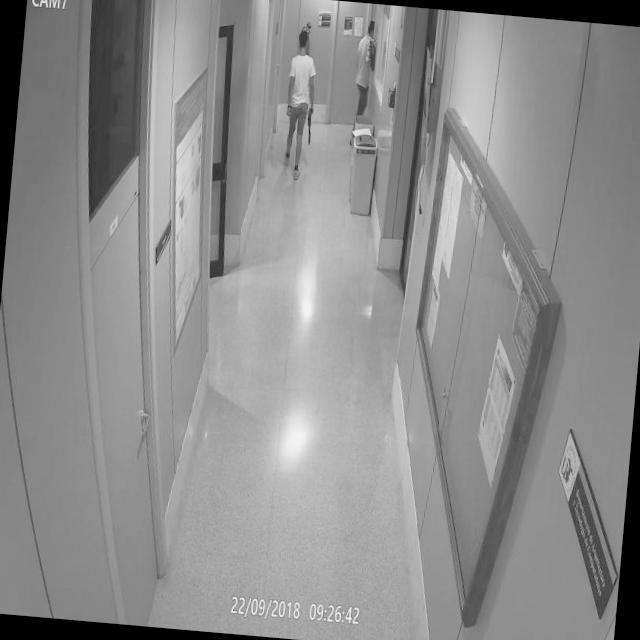gun: (302, 102, 317, 152)
person: (349, 15, 380, 142)
person with a gun: (278, 24, 324, 174)
